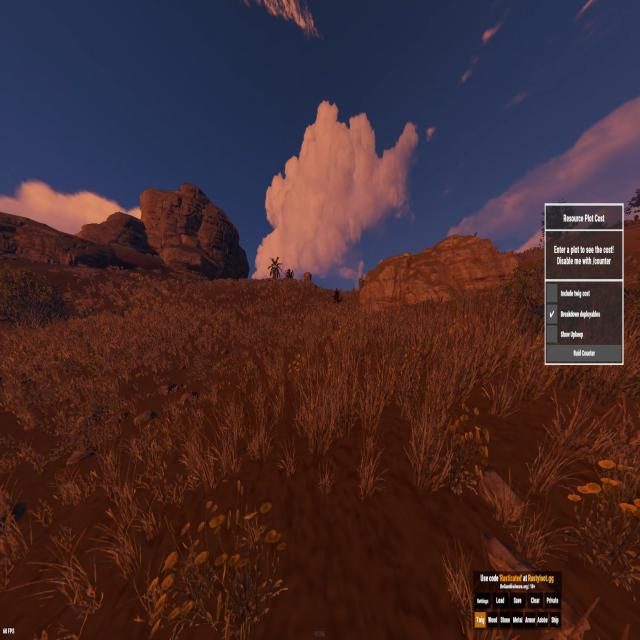Player: (332, 288, 340, 304)
